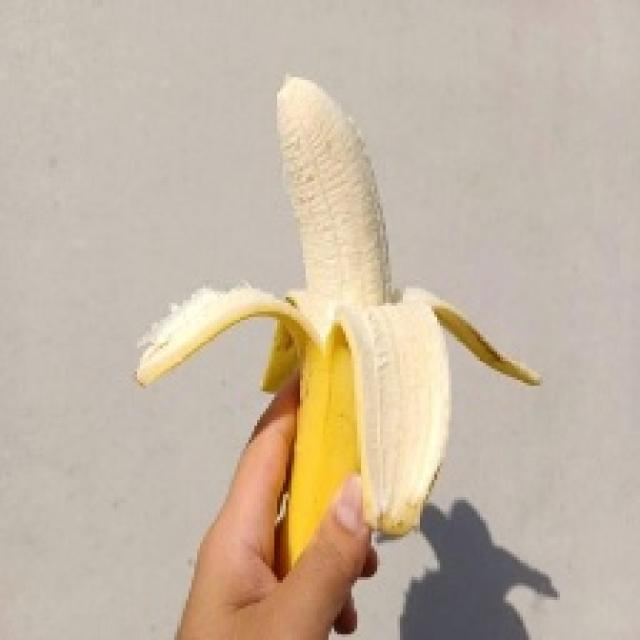Banana: (131, 72, 540, 577)
